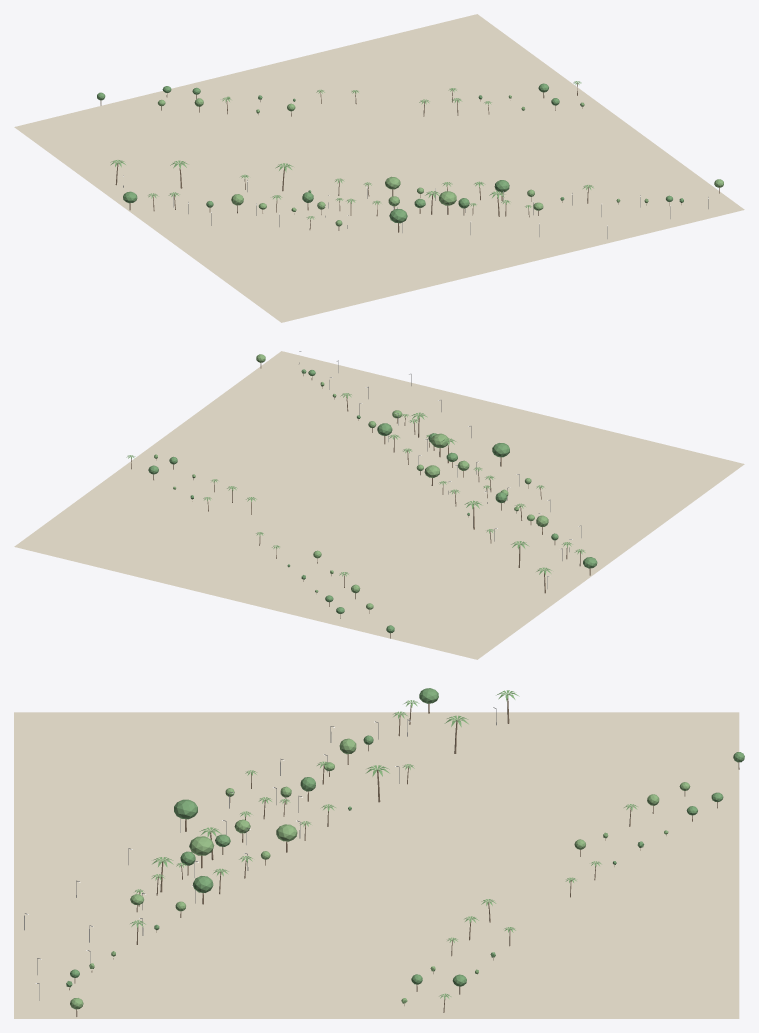
The model's file is nature_-3_4.glb.
3 views of the same model, one above another, from view 1: azimuth 30°, elevation 25°; view 2: azimuth 150°, elevation 25°; view 3: azimuth 270°, elevation 25° (orthographic). The views are drawn at different scales.
Parts seen in each view (by area): view 1: ground, foliage_b, foliage_a, palm_leaf, trunk; view 2: ground, foliage_b, foliage_a, palm_leaf, trunk; view 3: ground, foliage_a, foliage_b, palm_leaf, trunk.
Part boxes in pixels (x1,y1,x2,y2): ground: (14,14,744,322); foliage_b: (158,95,723,226); foliage_a: (97,83,683,223); palm_leaf: (110,81,593,219); trunk: (100,83,719,232); ground: (14,351,744,659); foliage_b: (154,354,548,609); foliage_a: (148,369,597,633); palm_leaf: (126,393,585,576); trunk: (131,363,590,638); ground: (14,712,739,1018); foliage_a: (66,688,744,987); foliage_b: (70,738,690,1009); palm_leaf: (130,690,637,999); trunk: (69,697,739,1016).
Size of the model in its own units: 253 by 13.3 by 252.
